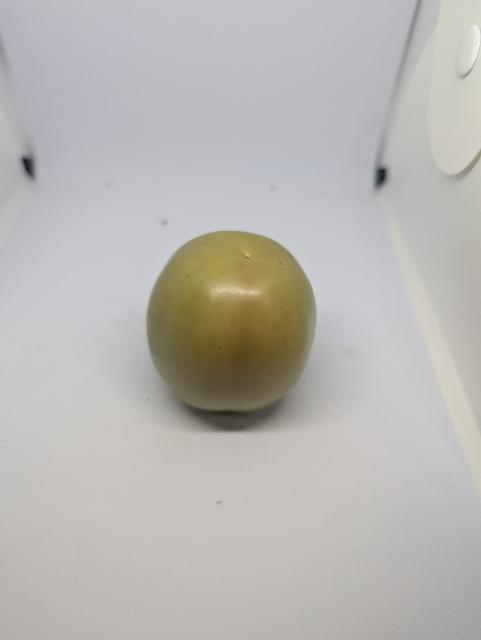breaker: (144, 227, 322, 421)
